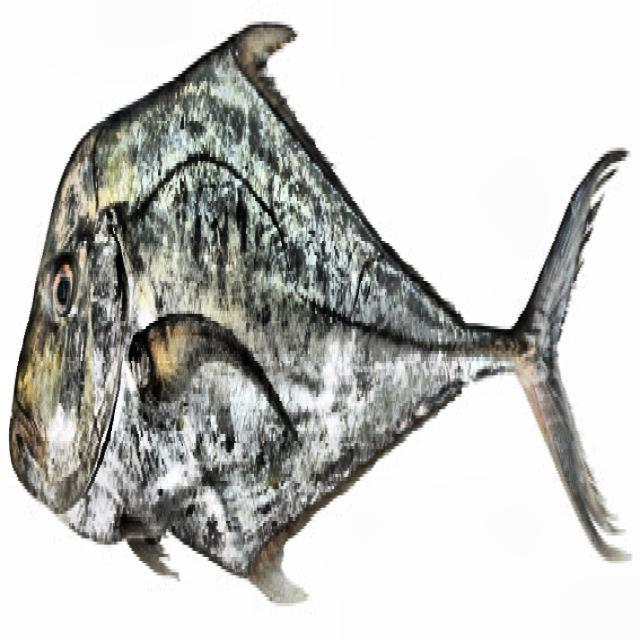fish: (8, 20, 631, 608)
